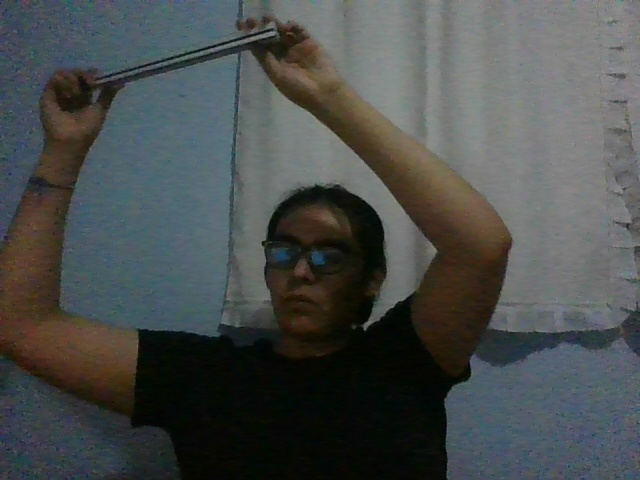regla: (91, 21, 281, 88)
